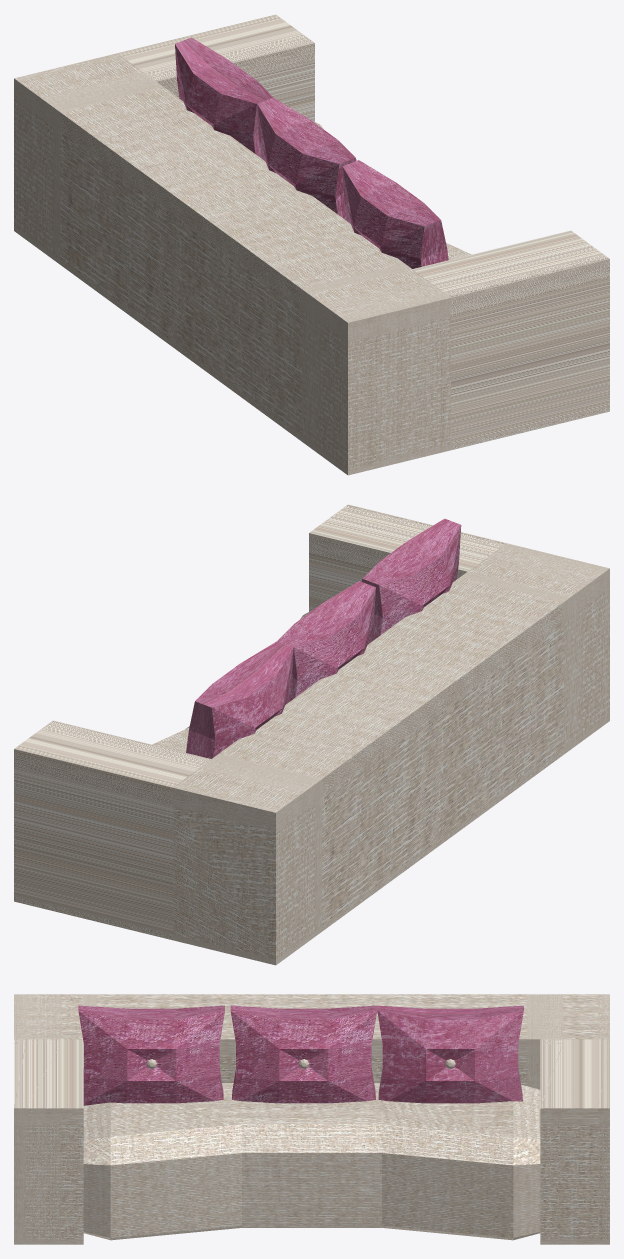
Rendered from armchair2.glb.
3 renders of one model, top to bottom at view 1: azimuth 30°, elevation 25°; view 2: azimuth 150°, elevation 25°; view 3: azimuth 270°, elevation 25°, orthographic. The views are drawn at different scales.
Visible parts, largest first — view 1: back, Cube, Cube.002, Cube.003; view 2: back, Cube.003, Cube, Cube.002; view 3: sit, back, Cube.003, Cube, Cube.002.
Boxes of the visible parts, x1,y1,x2,y2 form: back: (14,14,609,475); Cube: (342,160,448,268); Cube.002: (257,97,356,220); Cube.003: (175,37,273,157); back: (14,504,609,965); Cube.003: (186,641,293,758); Cube: (361,518,461,641); Cube.002: (277,581,375,701); sit: (83,1083,540,1240); back: (14,994,609,1244); Cube.003: (377,1005,523,1103); Cube: (78,1005,224,1105); Cube.002: (230,1005,377,1103).
Size of the model in its own units: 5.35 by 3.96 by 11.82.
Materials: 8 (8 with a texture image).
